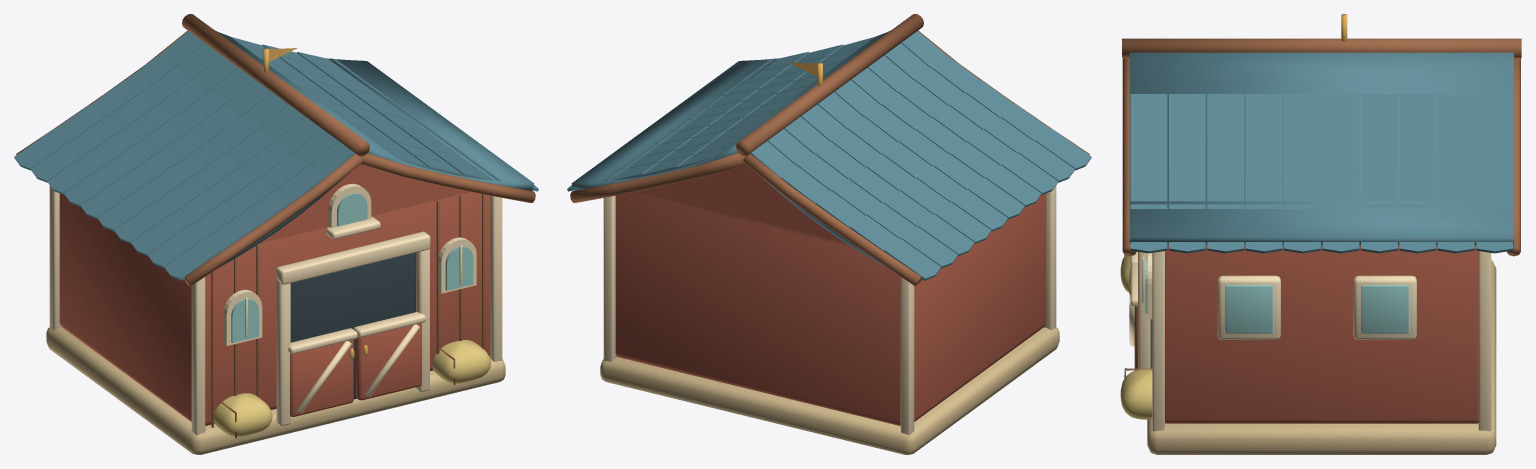
The model's file is farm_barn.glb.
3 renders of one model, left to right at view 1: azimuth 30°, elevation 25°; view 2: azimuth 150°, elevation 25°; view 3: azimuth 270°, elevation 25°, orthographic. The views are drawn at different scales.
Visible parts, largest first — view 1: farm_barn_crafted_mesh; view 2: farm_barn_crafted_mesh; view 3: farm_barn_crafted_mesh.
Boxes of the visible parts, x1,y1,x2,y2 form: farm_barn_crafted_mesh: [14, 14, 538, 454]; farm_barn_crafted_mesh: [567, 14, 1091, 454]; farm_barn_crafted_mesh: [1120, 14, 1521, 454].
Bounding box in the file's own units: 5.32 × 4.33 × 4.43.
